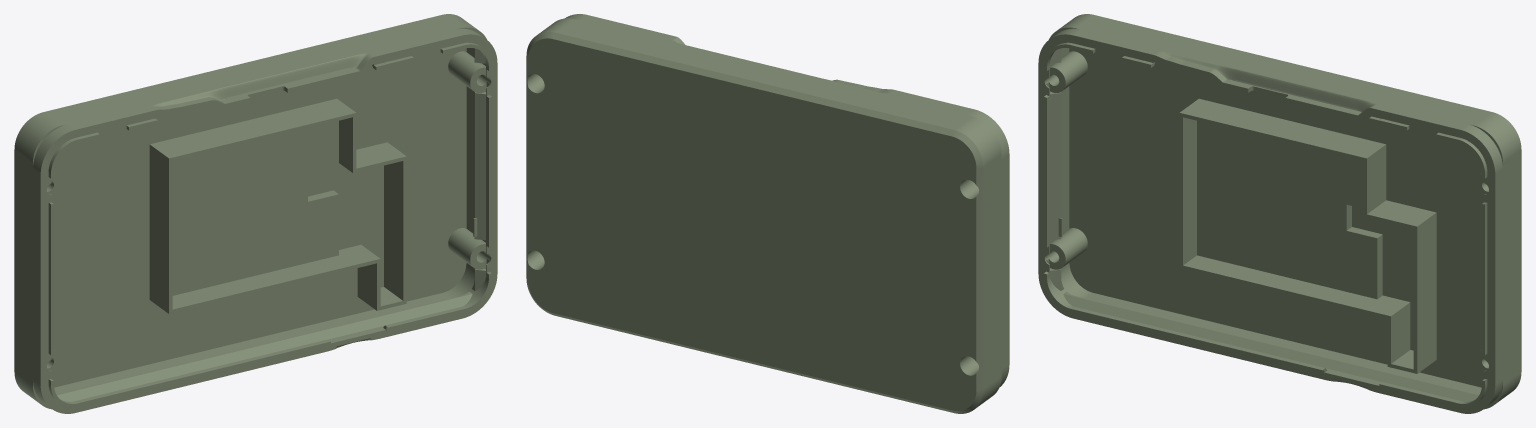
The model's file is rear-shell.glb.
3 renders of one model, left to right at view 1: azimuth 30°, elevation 25°; view 2: azimuth 150°, elevation 25°; view 3: azimuth 330°, elevation 25°, orthographic.
Visible parts, largest first — view 1: rear-shell-supported-assembly.ply; view 2: rear-shell-supported-assembly.ply; view 3: rear-shell-supported-assembly.ply.
Part boxes in pixels (left/top/right/bottom): rear-shell-supported-assembly.ply: left=14, top=14, right=497, bottom=413; rear-shell-supported-assembly.ply: left=526, top=14, right=1009, bottom=413; rear-shell-supported-assembly.ply: left=1038, top=14, right=1521, bottom=413.
Size of the model in its own units: 157 by 93 by 18.5.
